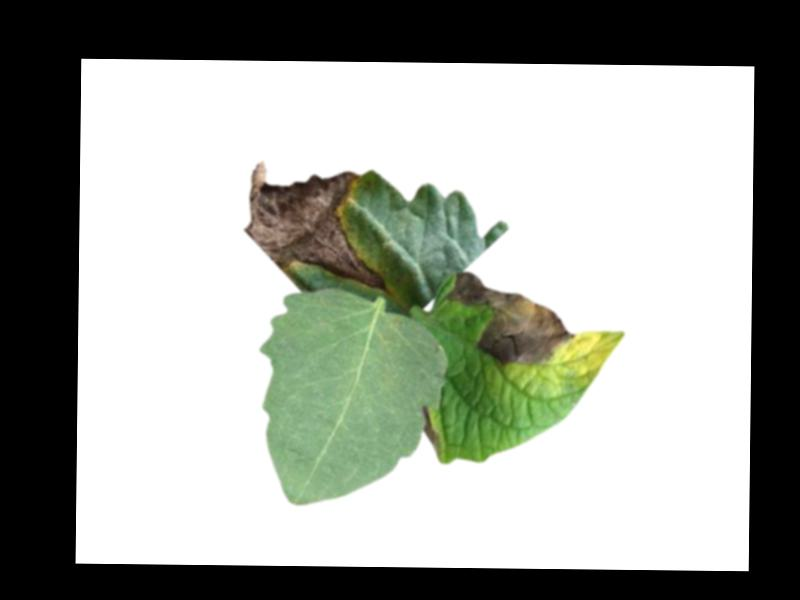Early_blight: (243, 159, 393, 288), (445, 269, 576, 368), (423, 406, 441, 453)
healthy: (257, 287, 446, 507)
